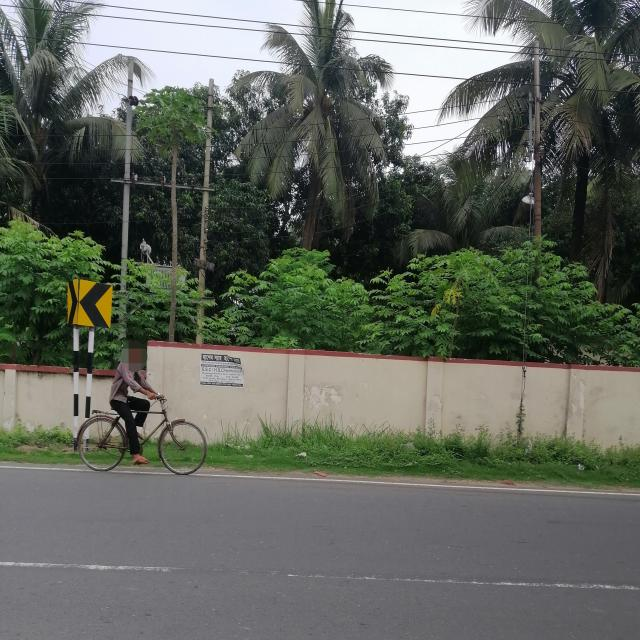Bicycle: (64, 387, 218, 481)
